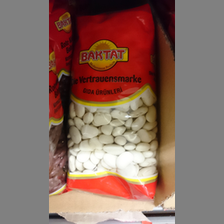beans: (68, 7, 158, 206)
